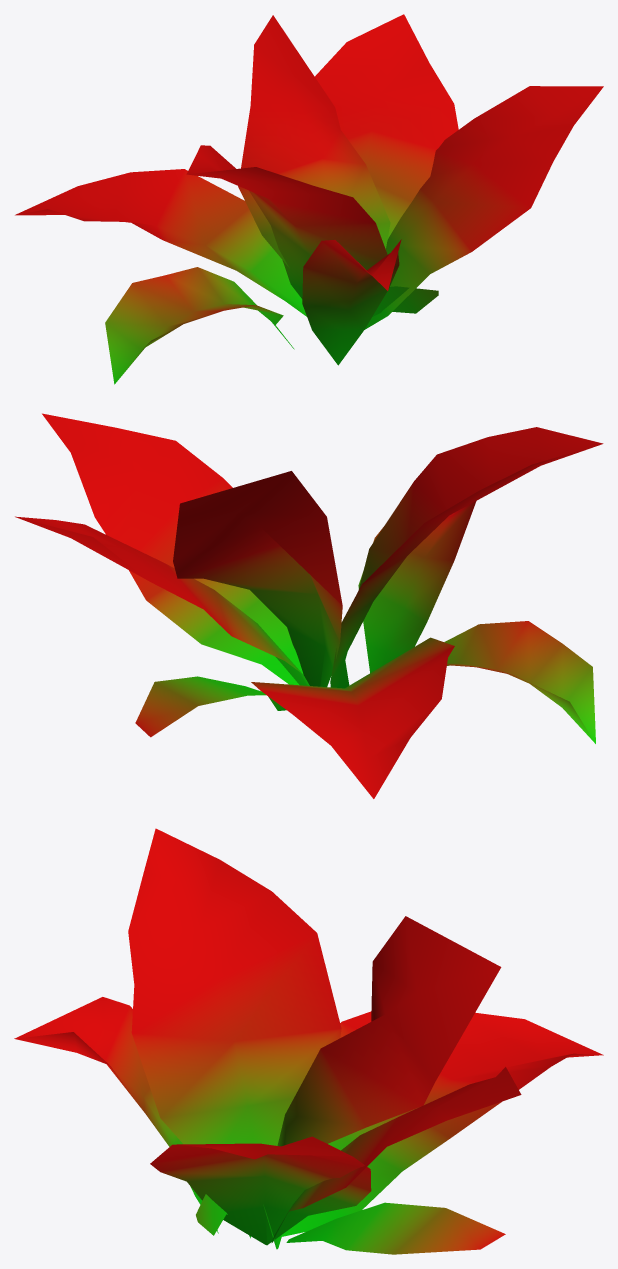
File: Lady Fern_LOD5_Var6_wdvlditia.fbx
3 views of the same model, one above another, from view 1: azimuth 30°, elevation 25°; view 2: azimuth 150°, elevation 25°; view 3: azimuth 270°, elevation 25° (orthographic). The views are drawn at different scales.
Parts seen in each view (by area): view 1: _1fbd_Var6_LOD5; view 2: _1fbd_Var6_LOD5; view 3: _1fbd_Var6_LOD5.
Part boxes in pixels (box(x1,y1,x2,y2)): _1fbd_Var6_LOD5: box(15, 14, 603, 384); _1fbd_Var6_LOD5: box(15, 413, 603, 798); _1fbd_Var6_LOD5: box(14, 828, 603, 1254).
Size of the model in its own units: 80.4 by 41.38 by 70.3.
